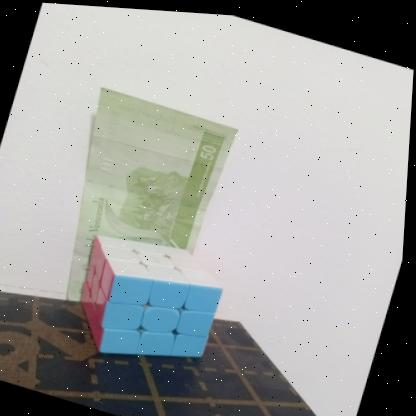fifty-back-vef: (41, 82, 242, 336)
